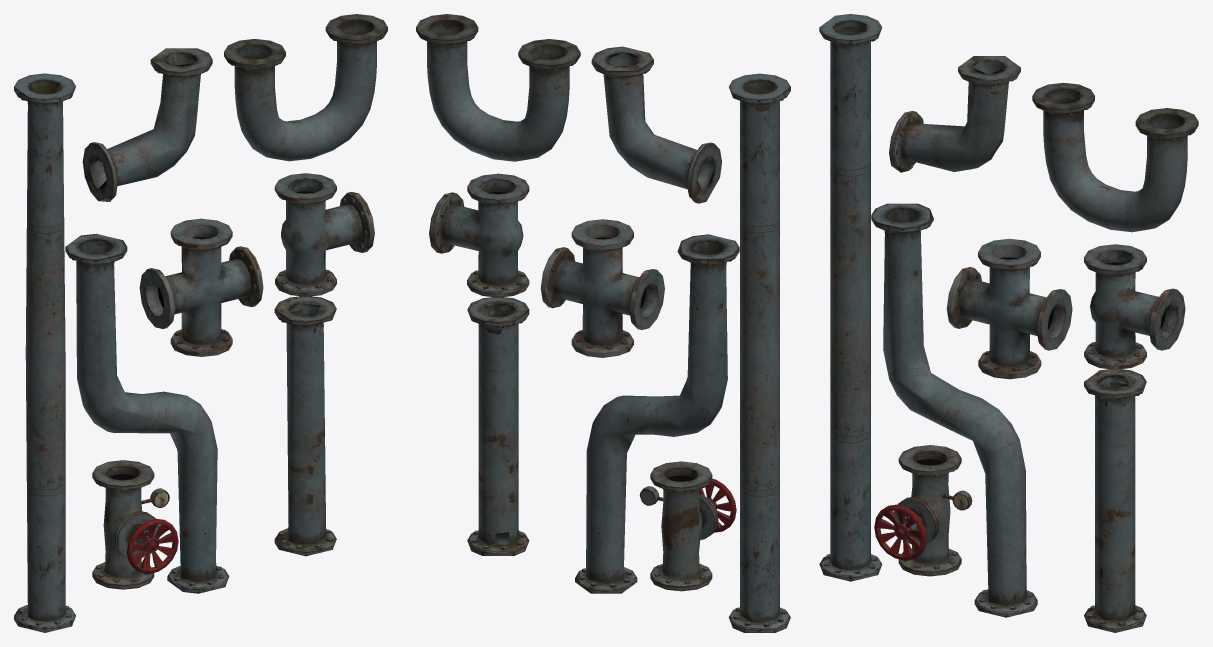
The model's file is modular_industrial_pipes_01.glb.
3 views of the same model, side by side, from view 1: azimuth 30°, elevation 25°; view 2: azimuth 150°, elevation 25°; view 3: azimuth 330°, elevation 25° (orthographic).
Bounding box in the file's own units: 1.4 × 1.95 × 0.3075.
2 materials, 2 textured.
